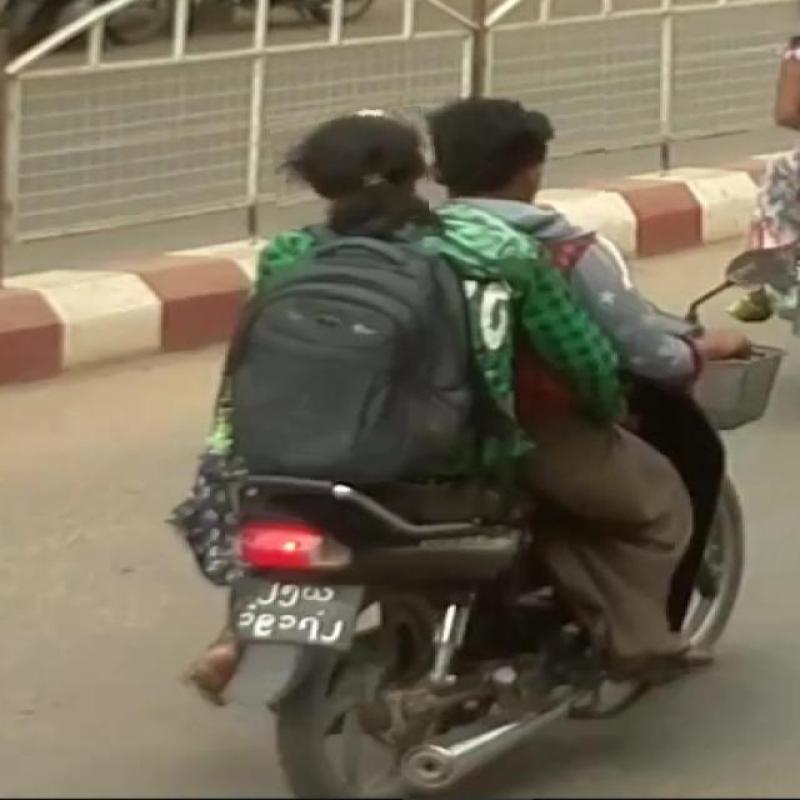nohelmet: (427, 92, 605, 198), (272, 109, 428, 227)
